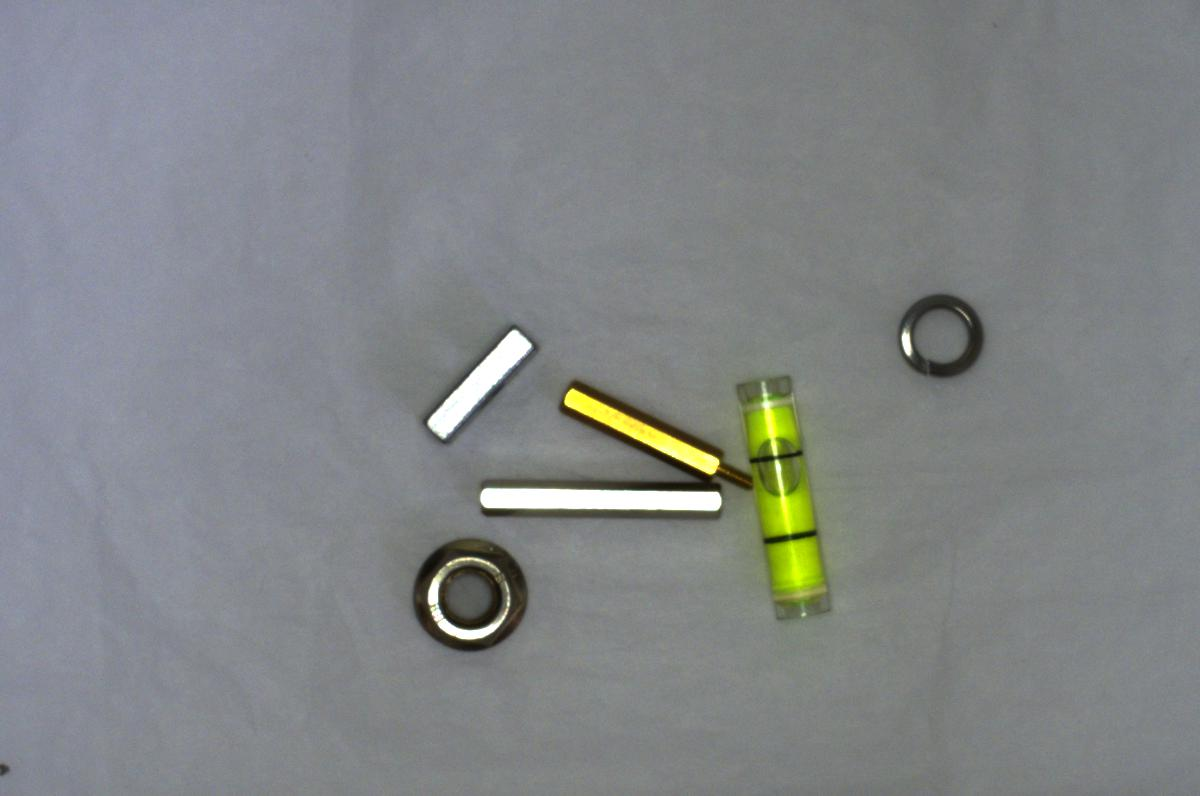Double hexagonal column: (479, 470, 731, 522)
Flange nut: (407, 522, 541, 655)
Hexagon pillar: (548, 380, 755, 493)
Horizontal bubble: (734, 352, 840, 628)
Rectangular nut: (424, 323, 539, 446)
Spring washer: (887, 285, 998, 386)
